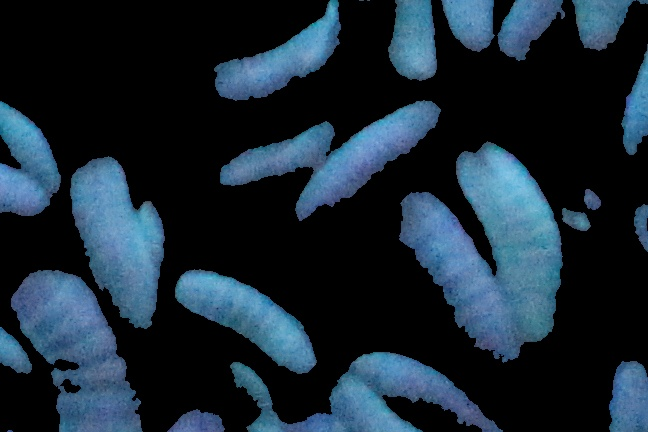larvae: (448, 126, 567, 352), (10, 261, 141, 432), (394, 190, 518, 355), (67, 154, 166, 343), (294, 103, 445, 225), (169, 266, 330, 380), (210, 4, 356, 115), (355, 339, 506, 432), (216, 121, 345, 192), (1, 80, 70, 208), (427, 1, 518, 67), (552, 1, 639, 69), (493, 1, 575, 69), (381, 1, 446, 79), (1, 158, 67, 233)
